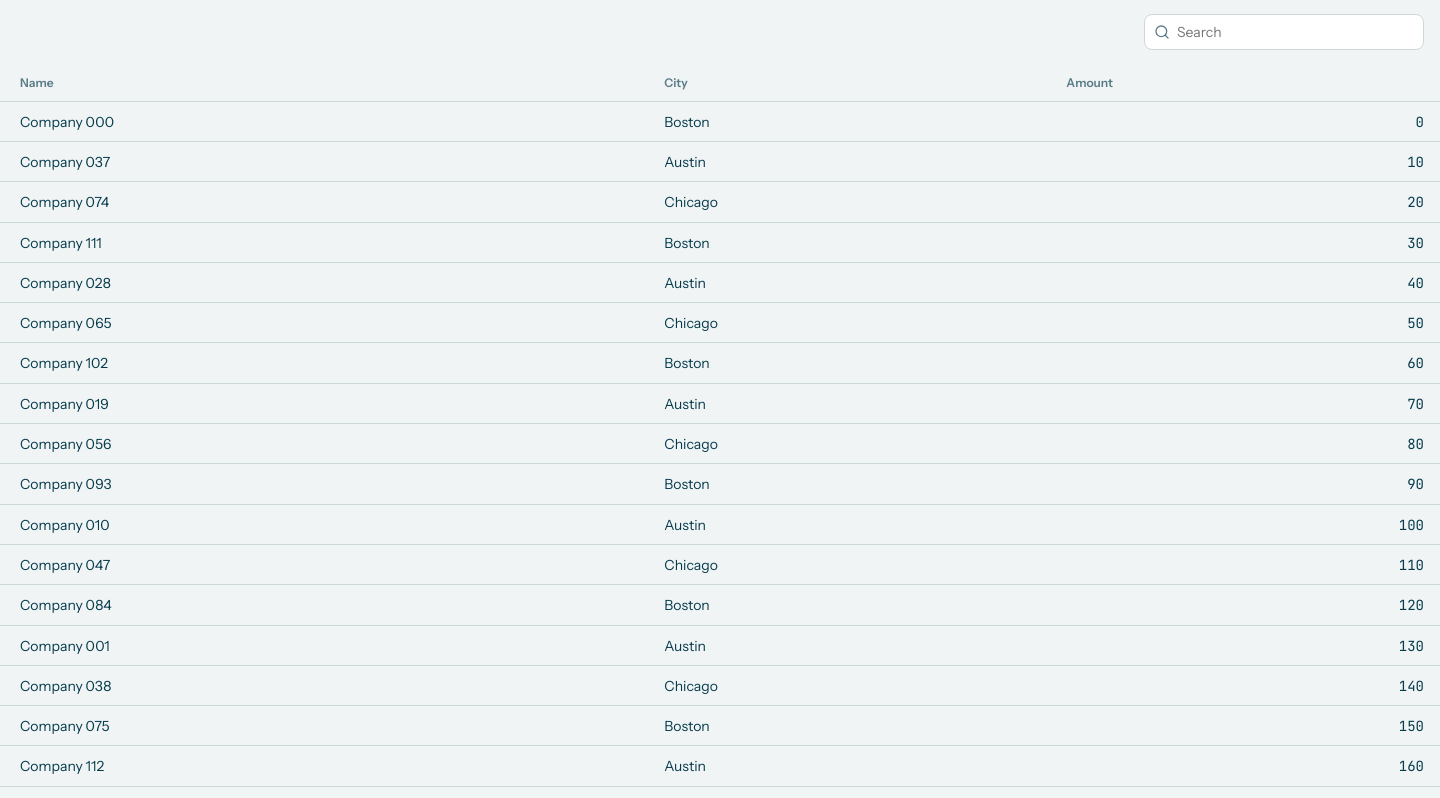
it: DataTable › sorts numbers as numbers, smallest first
This screenshot has width=1440, height=798.
Step 1. Click the button "Amount" → (1090, 83), box [1066,72,1113,94]
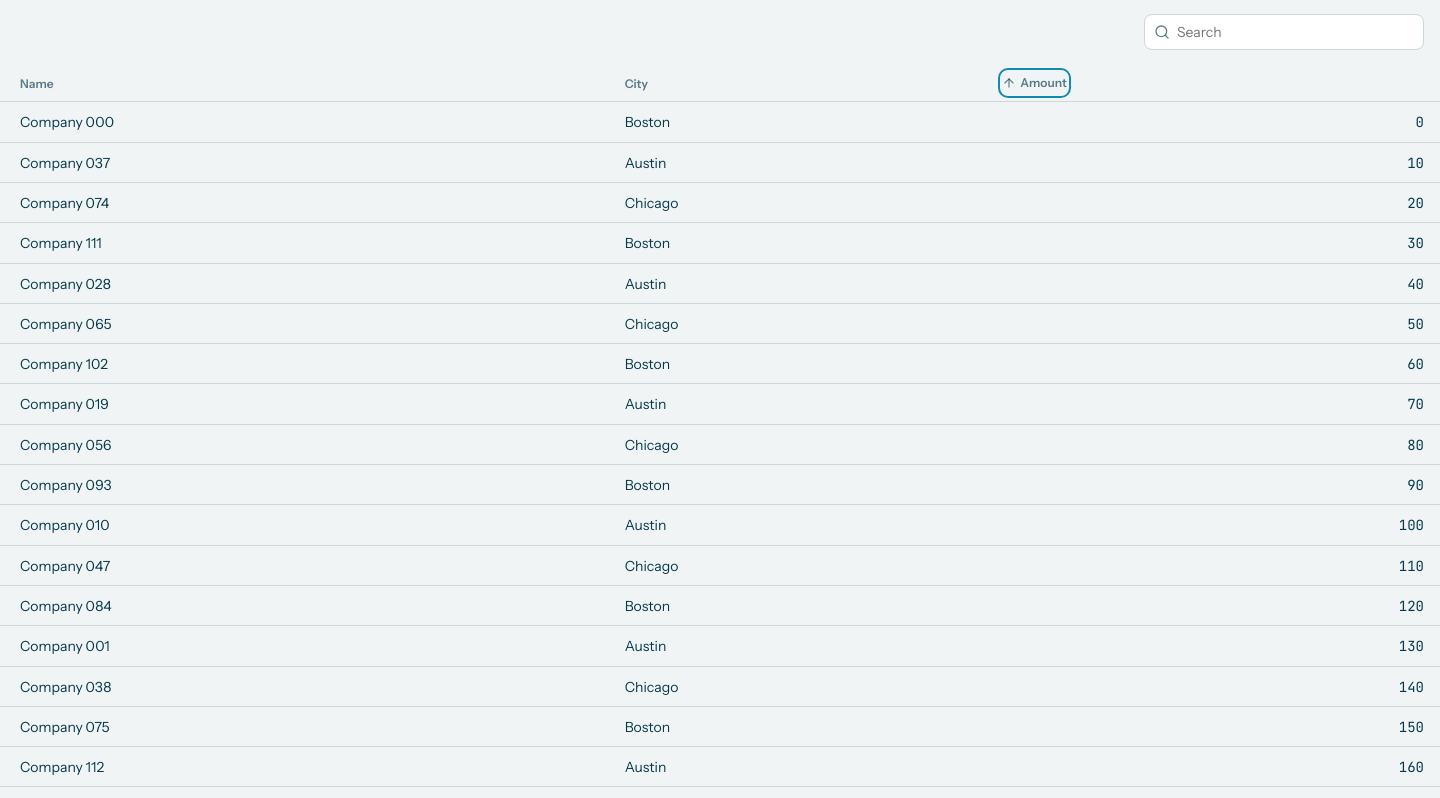
Check: the cell "0" is shown, box [990,102,1439,143]
Step 2. Click the button "Amount" → (1035, 83), box [1002,72,1067,94]
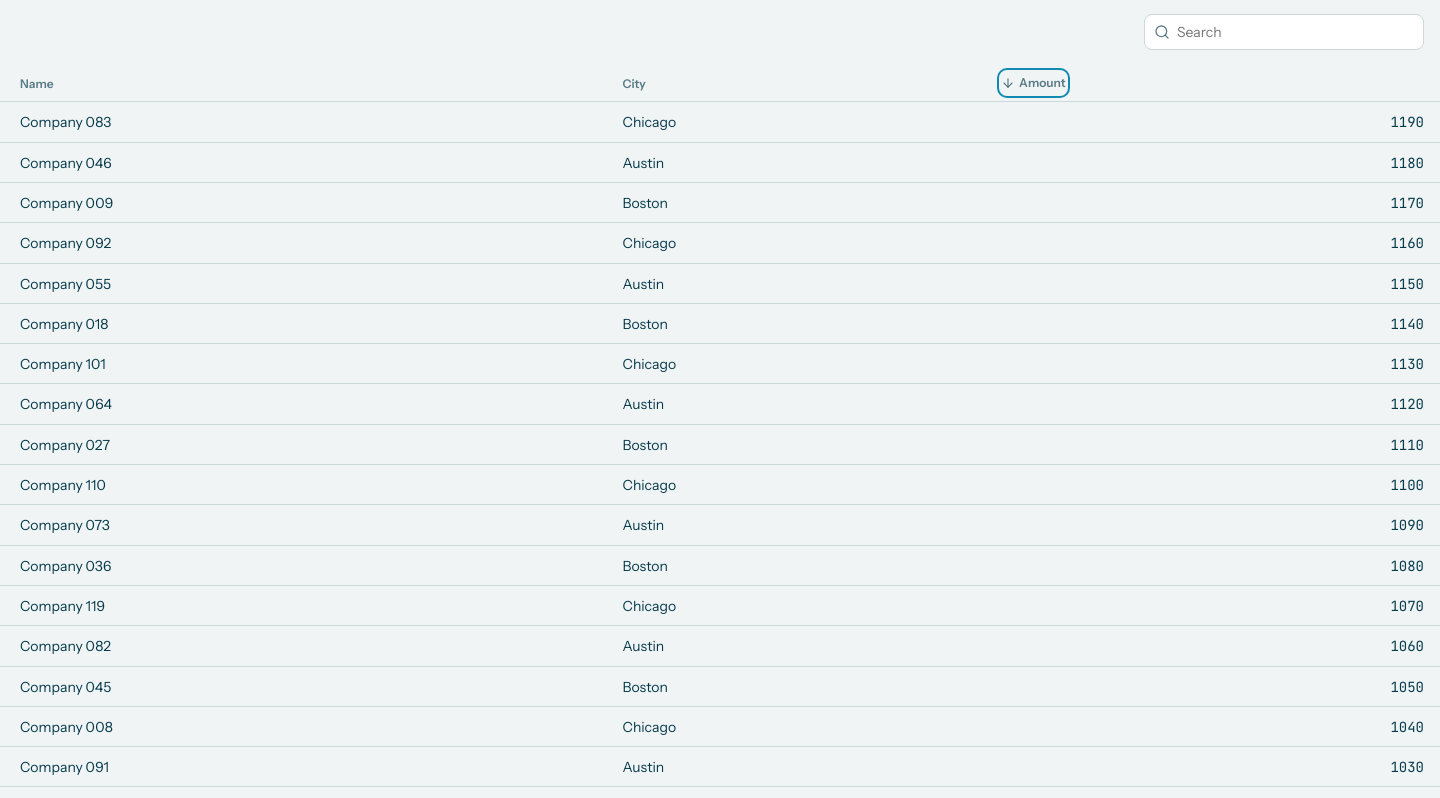
Check: the cell "1190" is shown, box [989,102,1439,143]
